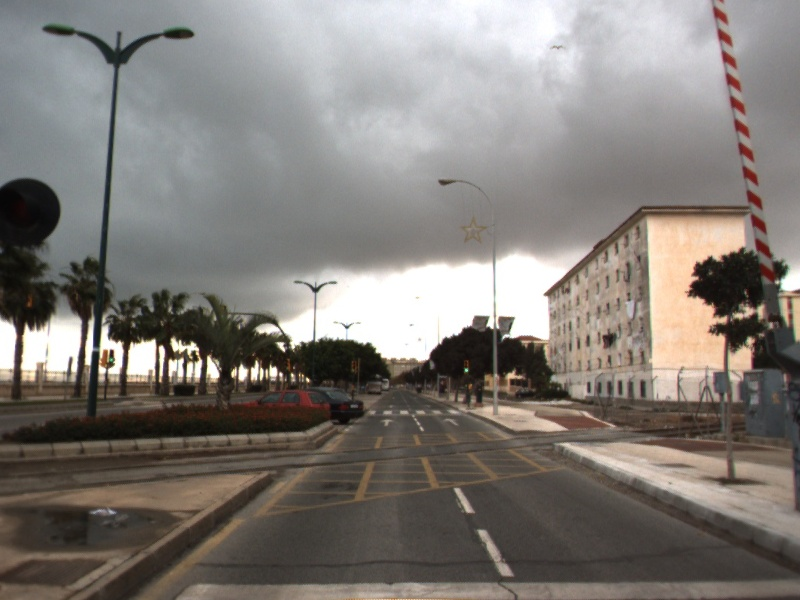STRAIGHT: (440, 416, 462, 427), (378, 417, 396, 428)
